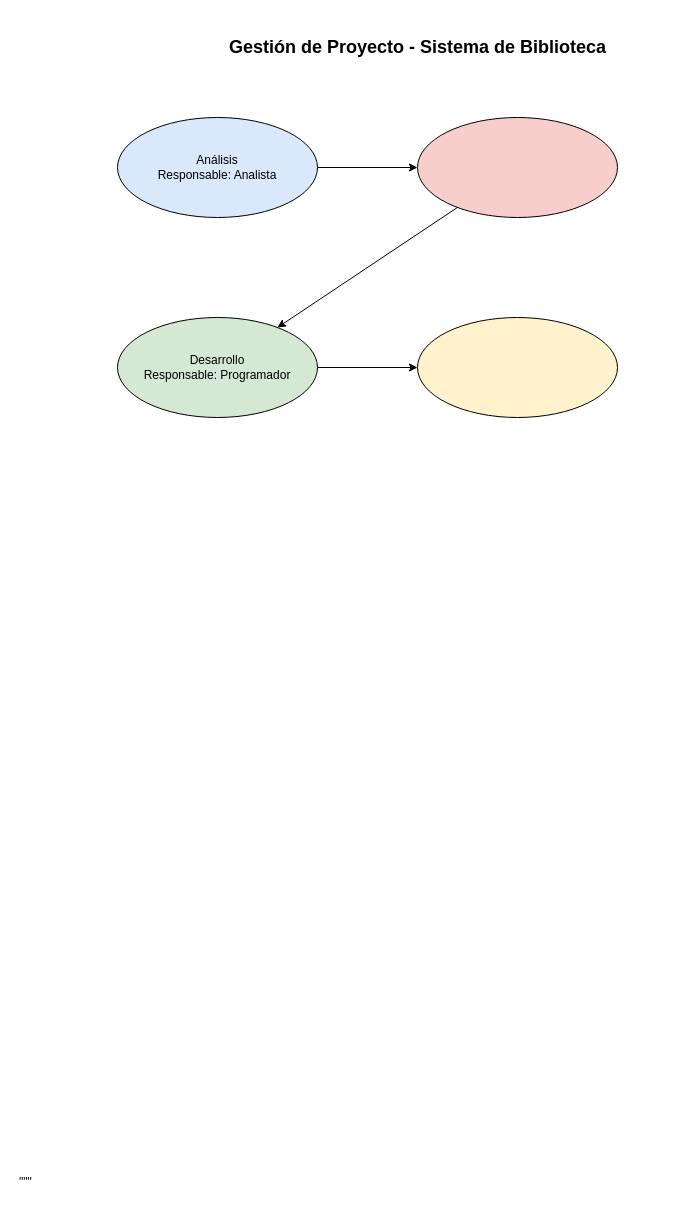
Some shapes in this 684 by 1224 pixel diagram are drawn without their labels. Here are the shapes that lost their labels. From the top down, the centre of each, then its label:
At point 517,167: "Diseño Responsable: Diseñador".
At point 517,367: "Pruebas Responsable: Tester".
